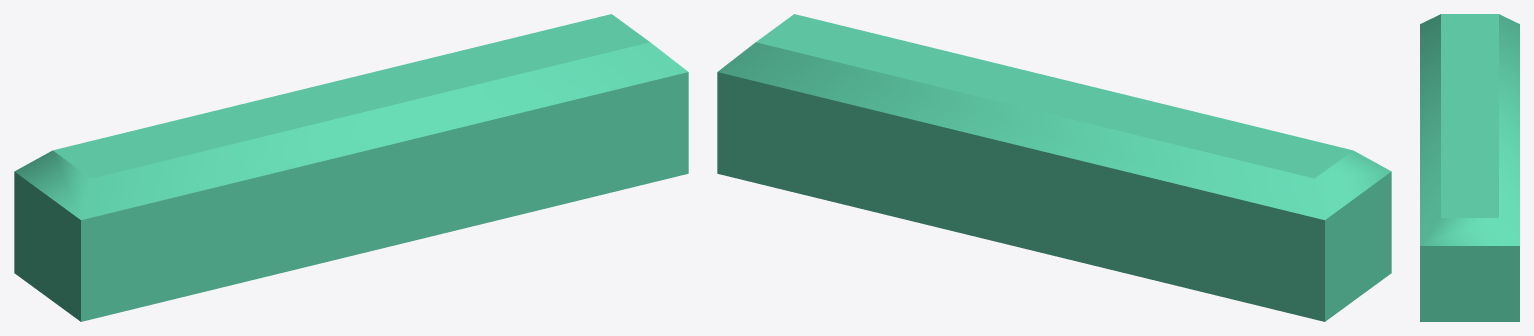
Rendered from hedge.fbx.
The picture shows the model from 3 angles, left to right: view 1: azimuth 30°, elevation 25°; view 2: azimuth 150°, elevation 25°; view 3: azimuth 270°, elevation 25°; orthographic projection. The views are drawn at different scales.
Visible parts, largest first — view 1: hedge; view 2: hedge; view 3: hedge.
Boxes of the visible parts, x1,y1,x2,y2 form: hedge: (14,14,688,321); hedge: (717,14,1391,321); hedge: (1420,14,1519,321).
Size of the model in its own units: 10 by 2 by 1.9.
